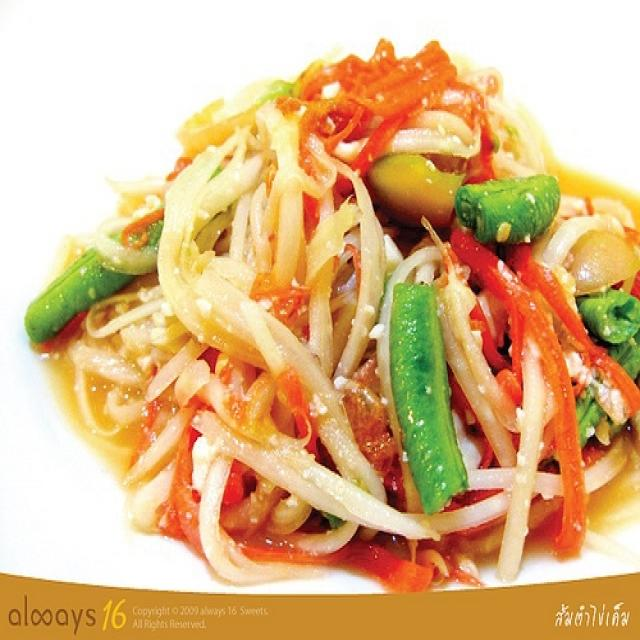蔬菜料理: (50, 34, 605, 562)
